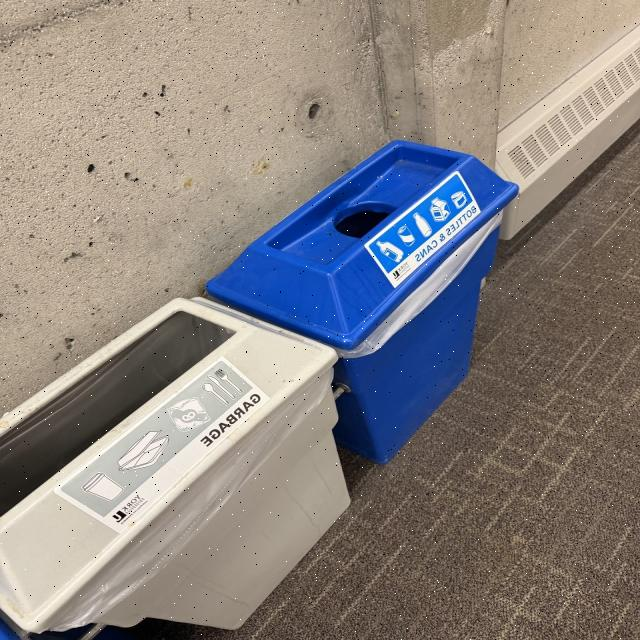Dustbin: (0, 141, 521, 636)
